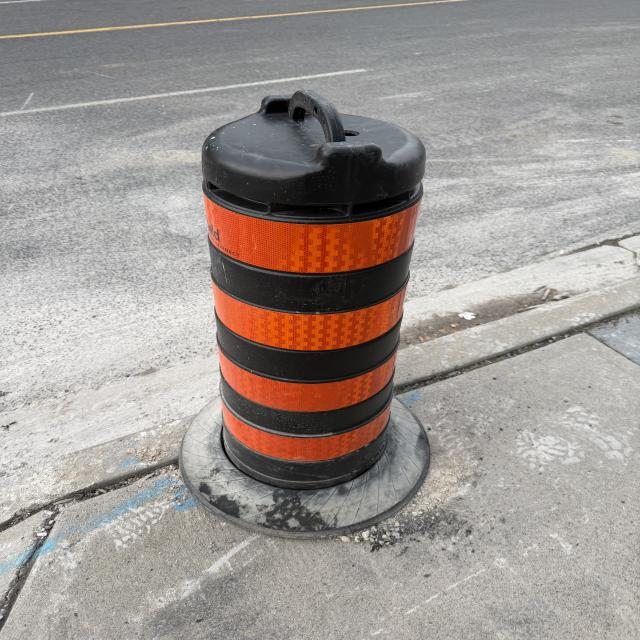Teraffic Barrel: (181, 91, 429, 535)
